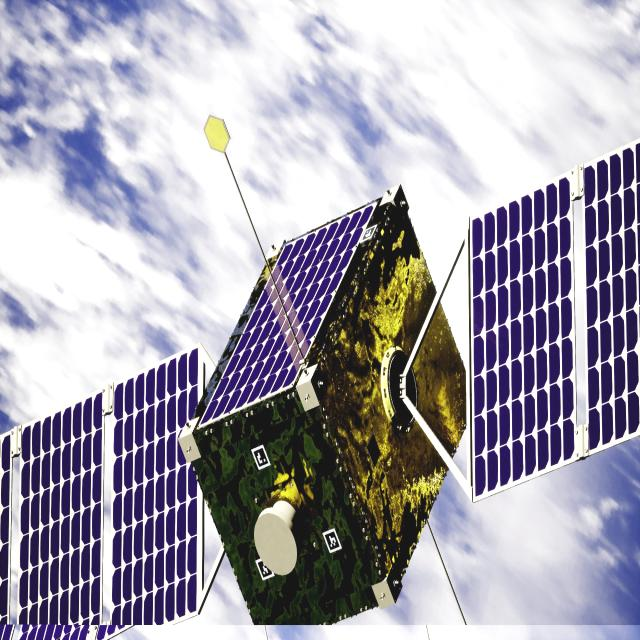satellite: (0, 143, 640, 640)
